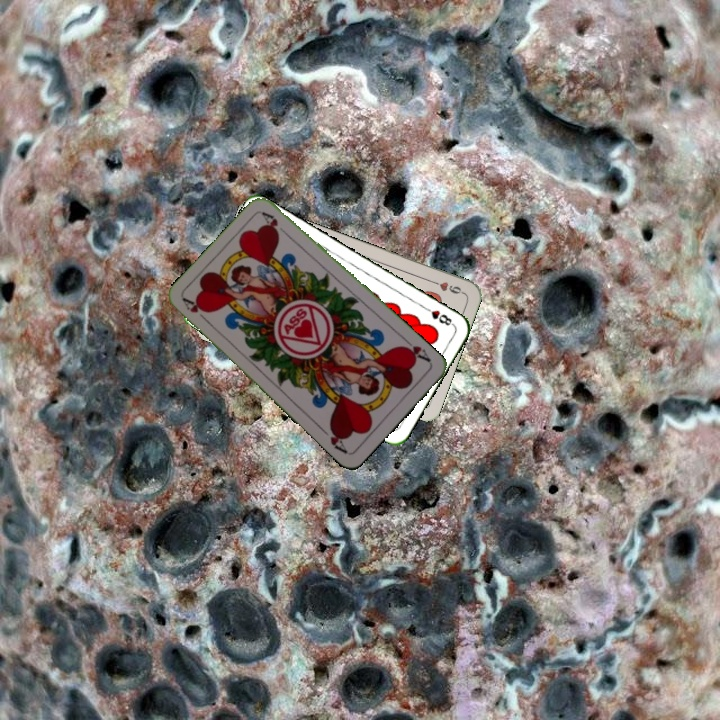H8: (419, 303, 457, 328)
H9: (427, 277, 467, 297)
HA: (397, 334, 434, 365), (179, 294, 212, 326)
